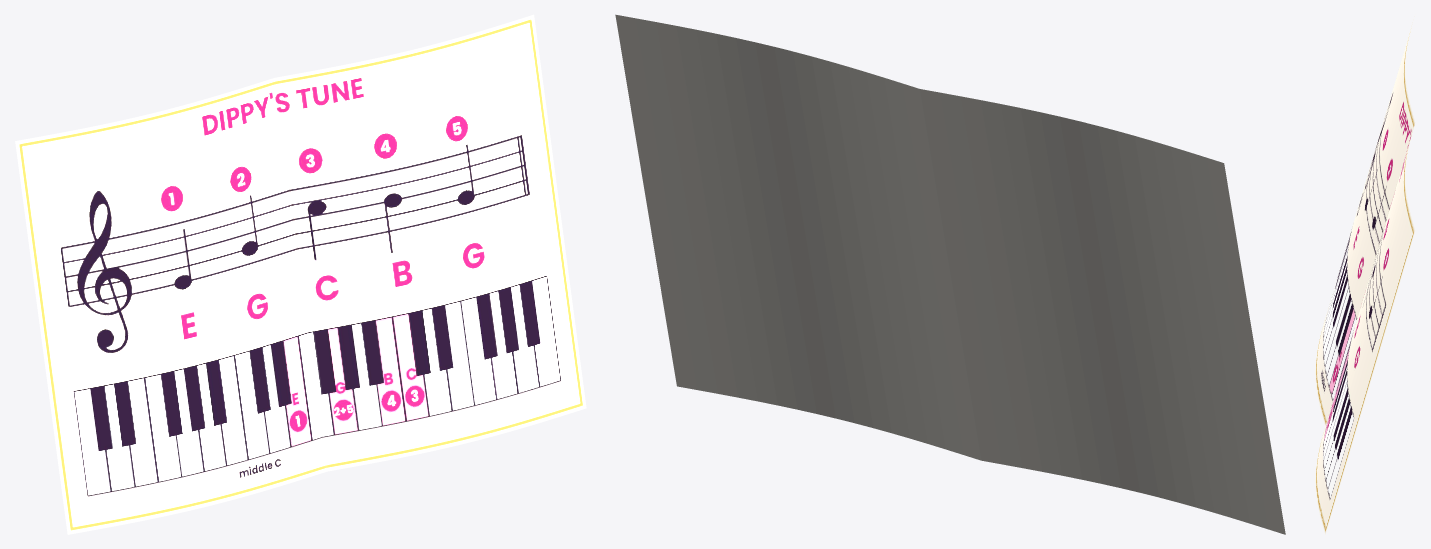
Rendered from citadel_sheet_music.glb.
3 views of the same model, side by side, from view 1: azimuth 30°, elevation 25°; view 2: azimuth 150°, elevation 25°; view 3: azimuth 270°, elevation 25° (orthographic). The views are drawn at different scales.
Visible parts, largest first — view 1: sheet_front; view 2: sheet_back; view 3: sheet_front.
Boxes of the visible parts, <box> form: sheet_front: <box>15,14,586,534</box>; sheet_back: <box>615,14,1285,534</box>; sheet_front: <box>1315,27,1415,534</box>.
Size of the model in its own units: 0.62 by 0.4057 by 0.1222.
2 materials, 1 textured.
